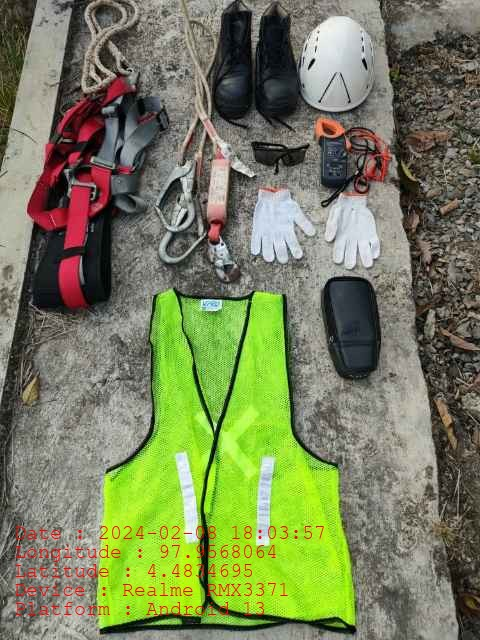HELM: (298, 15, 374, 111)
SARUNG_TANGAN: (248, 187, 316, 263), (321, 192, 380, 269)
SEPATU: (213, 1, 301, 120)
